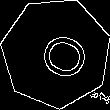O_W: (24, 23, 87, 83)
